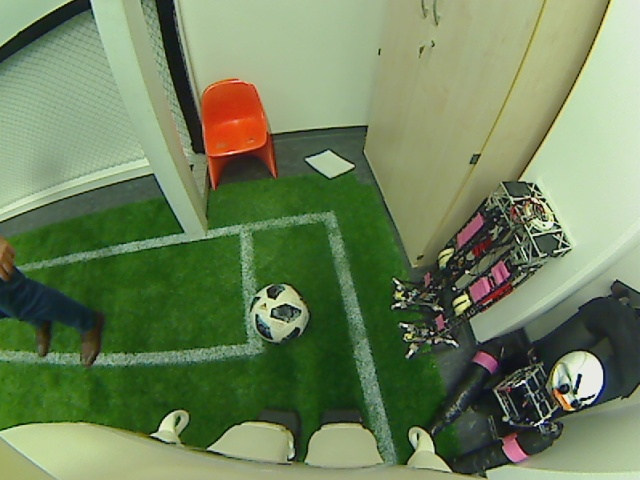ball: (249, 280, 310, 344)
